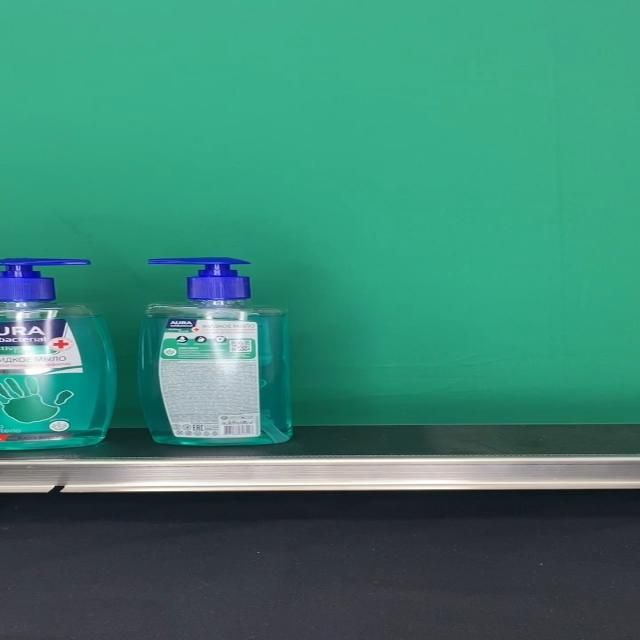Bottle: (140, 257, 293, 445)
Cap: (147, 258, 250, 300)
